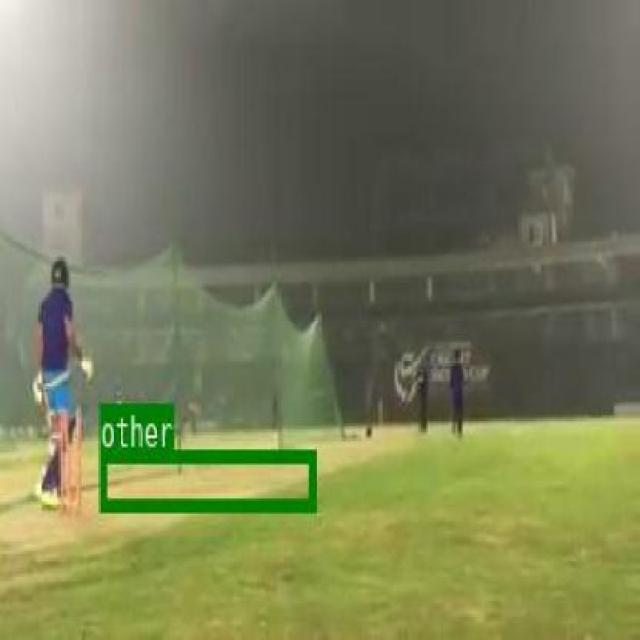other: (98, 447, 314, 510)
